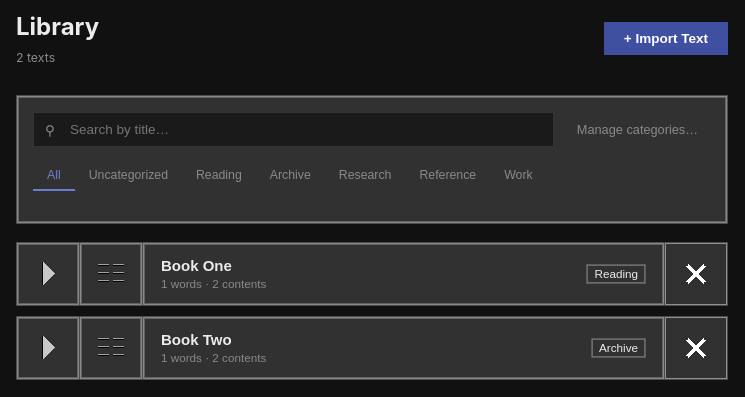
Test case: Library category filter toolbar › shows the result count on the tab row when search narrows the list
Type "Book One" into the field named "Search library" at (293, 130), box x1=33 y1=112 x2=554 y2=147
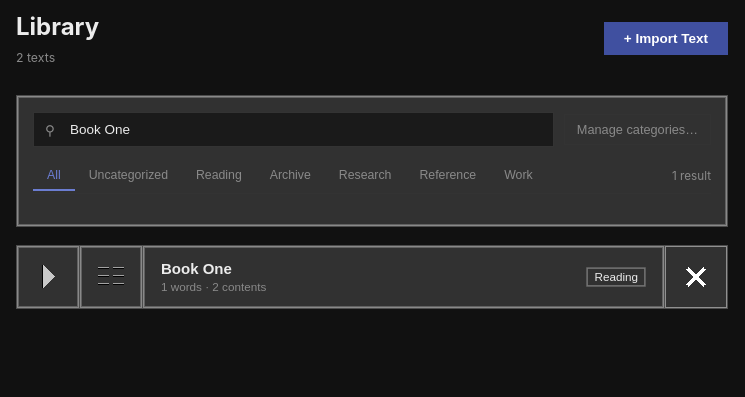
Check: the element that starts with "All" is shown, box x1=33 y1=161 x2=711 y2=194
Check: the message reads "1 result", box x1=672 y1=169 x2=711 y2=183
